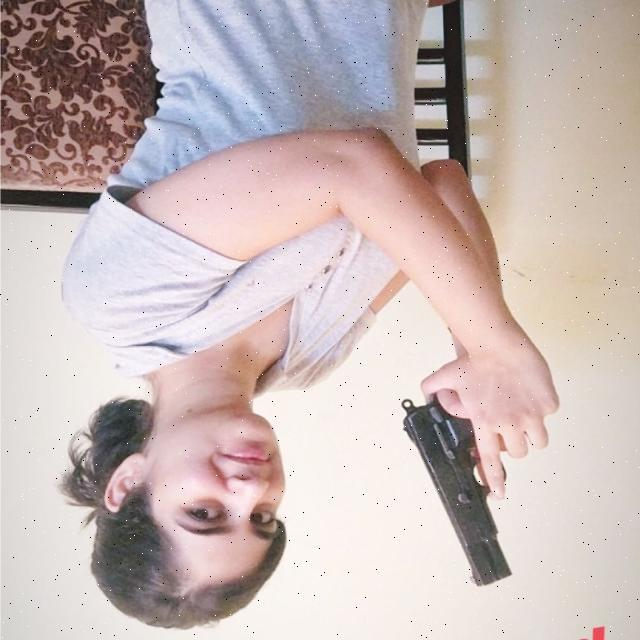gun: (381, 391, 521, 599)
